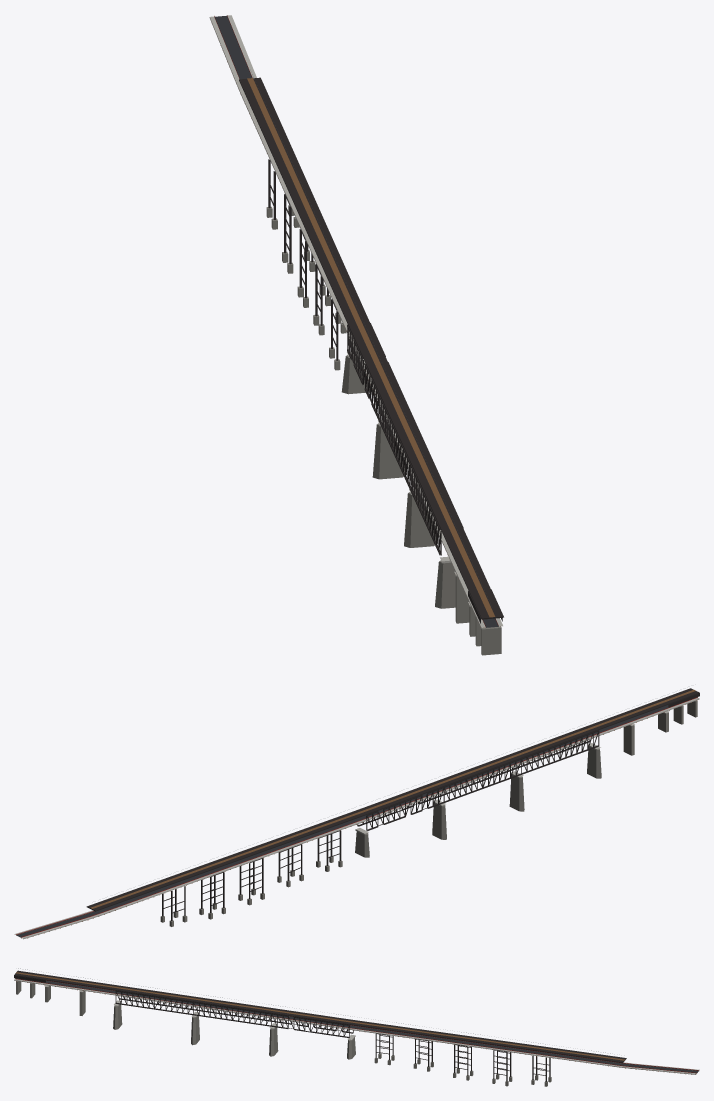
File: br_r10_high_level_1_lod1.gltf
3 views of the same model, one above another, from view 1: azimuth 30°, elevation 25°; view 2: azimuth 150°, elevation 25°; view 3: azimuth 270°, elevation 25° (orthographic). The views are drawn at different scales.
Visible parts, largest first — view 1: br_r10_high_level_1_lod1; view 2: br_r10_high_level_1_lod1; view 3: br_r10_high_level_1_lod1.
Part boxes in pixels (<box>): br_r10_high_level_1_lod1: <box>209,15,503,655</box>; br_r10_high_level_1_lod1: <box>14,688,699,939</box>; br_r10_high_level_1_lod1: <box>14,968,699,1086</box>.
Size of the model in its own units: 267 by 58.48 by 738.
